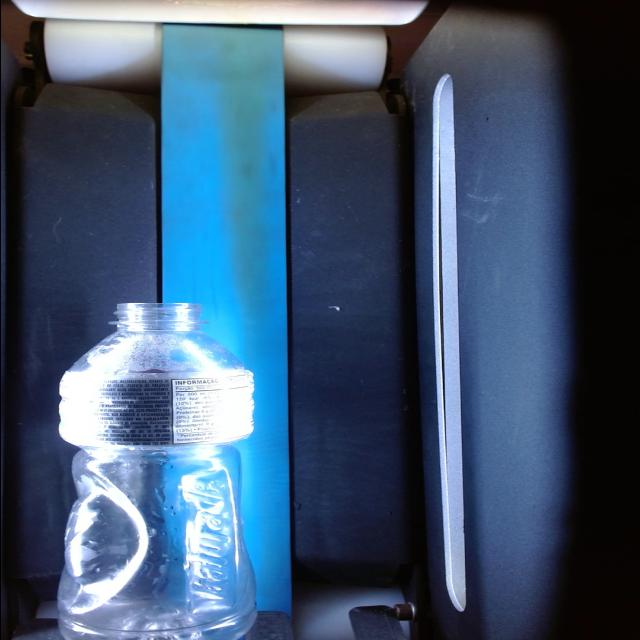bottom: (57, 445, 255, 640)
label: (59, 370, 251, 446)
neck: (70, 304, 242, 374)
